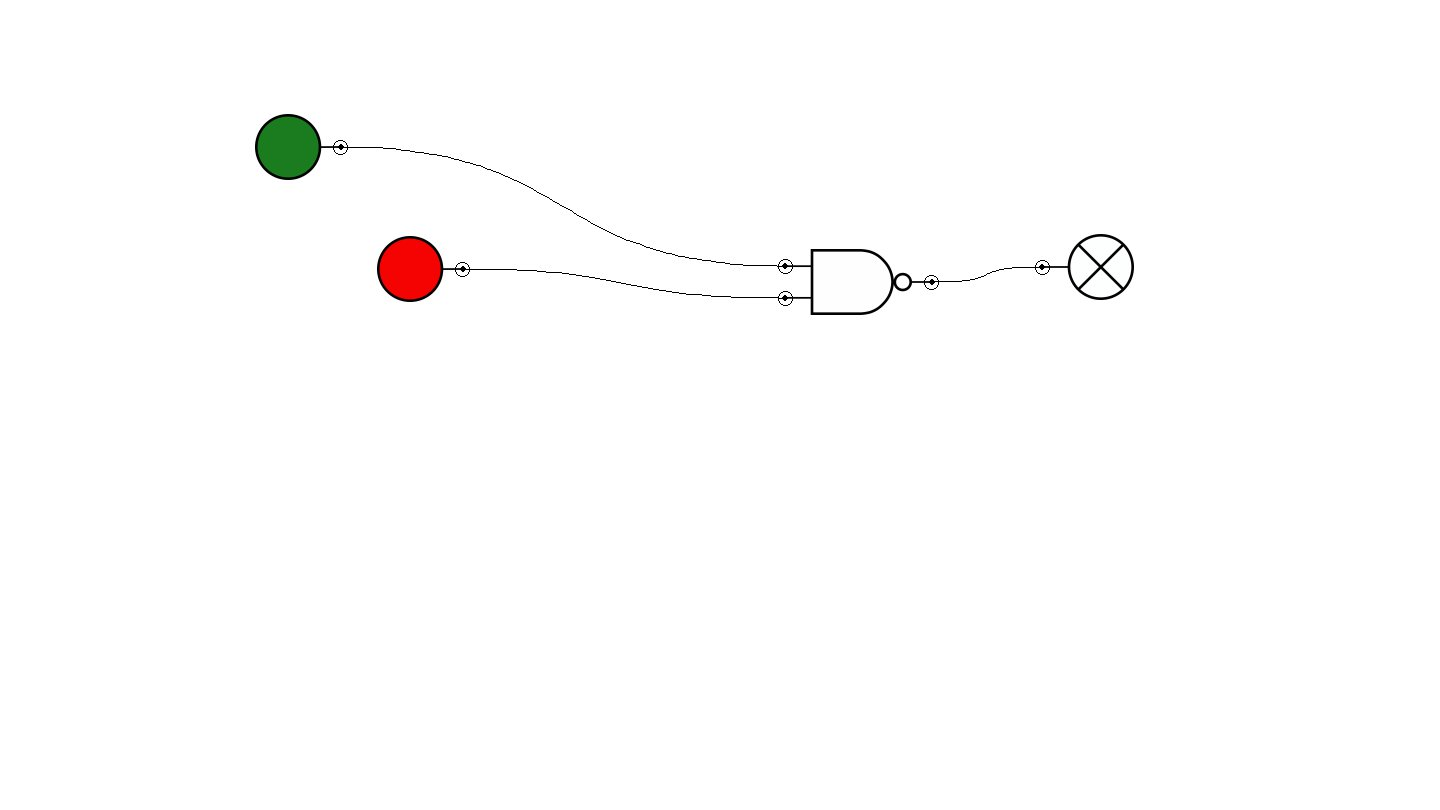bulb: (1035, 234, 1134, 300)
nand: (778, 249, 939, 315)
switch_False: (377, 236, 470, 302)
switch_True: (255, 114, 348, 180)
